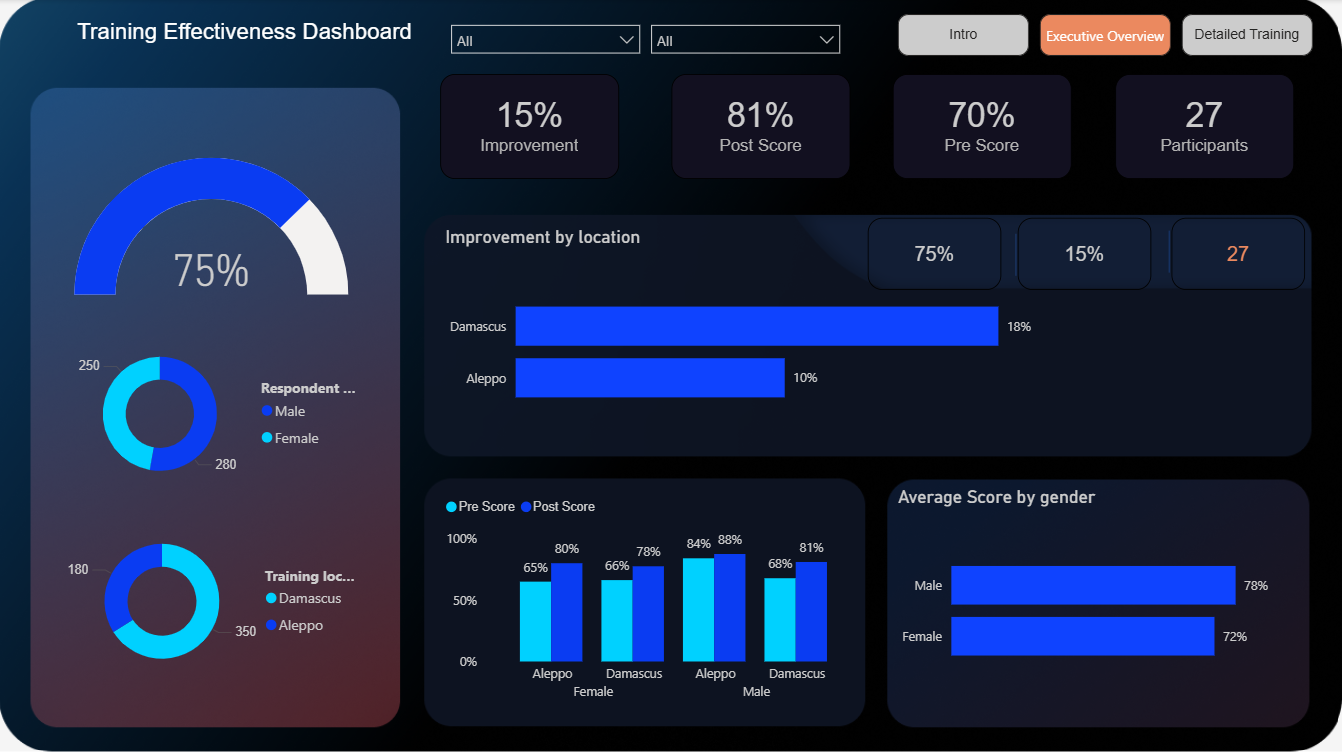

The page's visual inventory and layout, read from the dashboard file:
{"tool":"powerbi","page":{"name":"Executive Overview","canvas":[1280,720],"ordinal":1},"visuals":[{"type":"cardVisual","fields":{"Data":["Sheet1.Participants"]},"box":[1063.1,71.4,170.2,100],"z":0},{"type":"cardVisual","fields":{"Data":["Sheet1.Pre Score"]},"box":[851.2,71.4,170.2,100],"z":1000},{"type":"cardVisual","fields":{"Data":["Sheet1.Improvement"]},"box":[420.2,71.4,170.2,100],"z":2000},{"type":"cardVisual","fields":{"Data":["Sheet1.Post Score"]},"box":[640.5,71.4,170.2,100],"z":3000},{"type":"gauge","fields":{"Y":["Sheet1.Success Rate"]},"box":[52.4,146.4,300,140.5],"z":4000},{"type":"clusteredColumnChart","fields":{"Y":["Sheet1.Pre Score","Sheet1.Post Score"],"Category":["Sheet1.Respondent gender","Sheet1.Training location"]},"box":[420.2,464.3,407.1,217.9],"z":5000},{"type":"donutChart","fields":{"Category":["Sheet1.Respondent gender"],"Y":["CountNonNull(Sheet1.Respondent gender)"]},"box":[52.4,313.1,300,164.3],"z":6000},{"type":"donutChart","fields":{"Category":["Sheet1.Training location"],"Y":["CountNonNull(Sheet1.Training location)"]},"box":[52.4,491.7,300,164.3],"z":7000},{"type":"slicer","fields":{"Values":["Sheet1.Respondent gender"]},"box":[610.7,14.3,200,40.5],"z":8000},{"type":"slicer","fields":{"Values":["Sheet1.Training location"]},"box":[420.2,14.3,200,40.5],"z":9000},{"type":"textbox","box":[52.4,14.3,363.1,40.5],"z":10000},{"type":"clusteredBarChart","fields":{"Category":["Sheet1.Training location"],"Y":["Sheet1.Improvement %"]},"box":[420.2,216.7,823.8,214.3],"z":11000},{"type":"clusteredBarChart","fields":{"Category":["Sheet1.Respondent gender"],"Y":["Sheet1.Average Score"]},"box":[851.2,464.3,407.1,211.9],"z":12000},{"type":"cardVisual","fields":{"Data":["Sheet1.Success Rate"]},"box":[827.4,208.3,127.4,69],"z":13000},{"type":"cardVisual","fields":{"Data":["Sheet1.Improvement %"]},"box":[970.2,208.3,127.4,69],"z":14000},{"type":"cardVisual","fields":{"Data":["Sheet1.Participants"]},"box":[1116.7,208.3,127.4,69],"z":15000},{"type":"pageNavigator","box":[856,14.3,395,40.5],"z":15002}]}

Visuals, with their boxes in screenshot pixels (x1, y1, x2, y2), scaled from the page's 1280x720 canvas onto the 1342x752 screenshot:
cardVisual - Sheet1.Participants: (1115,75,1293,179)
cardVisual - Sheet1.Pre Score: (892,75,1071,179)
cardVisual - Sheet1.Improvement: (441,75,619,179)
cardVisual - Sheet1.Post Score: (672,75,850,179)
gauge - Sheet1.Success Rate: (55,153,369,300)
clusteredColumnChart - Sheet1.Pre Score x Sheet1.Post Score: (441,485,867,713)
donutChart - Sheet1.Respondent gender x CountNonNull(Sheet1.Respondent gender): (55,327,369,499)
donutChart - Sheet1.Training location x CountNonNull(Sheet1.Training location): (55,514,369,685)
slicer - Sheet1.Respondent gender: (640,15,850,57)
slicer - Sheet1.Training location: (441,15,650,57)
textbox: (55,15,436,57)
clusteredBarChart - Sheet1.Training location x Sheet1.Improvement %: (441,226,1304,450)
clusteredBarChart - Sheet1.Respondent gender x Sheet1.Average Score: (892,485,1319,706)
cardVisual - Sheet1.Success Rate: (867,218,1001,290)
cardVisual - Sheet1.Improvement %: (1017,218,1151,290)
cardVisual - Sheet1.Participants: (1171,218,1304,290)
pageNavigator: (897,15,1312,57)
